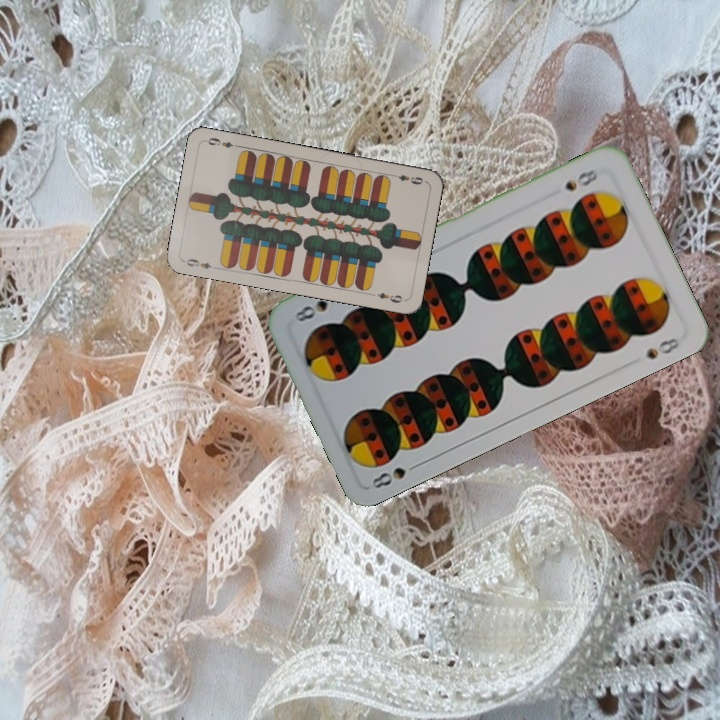E9: (180, 254, 220, 272), (387, 170, 428, 187)
S8: (367, 458, 424, 491), (561, 165, 600, 194)
